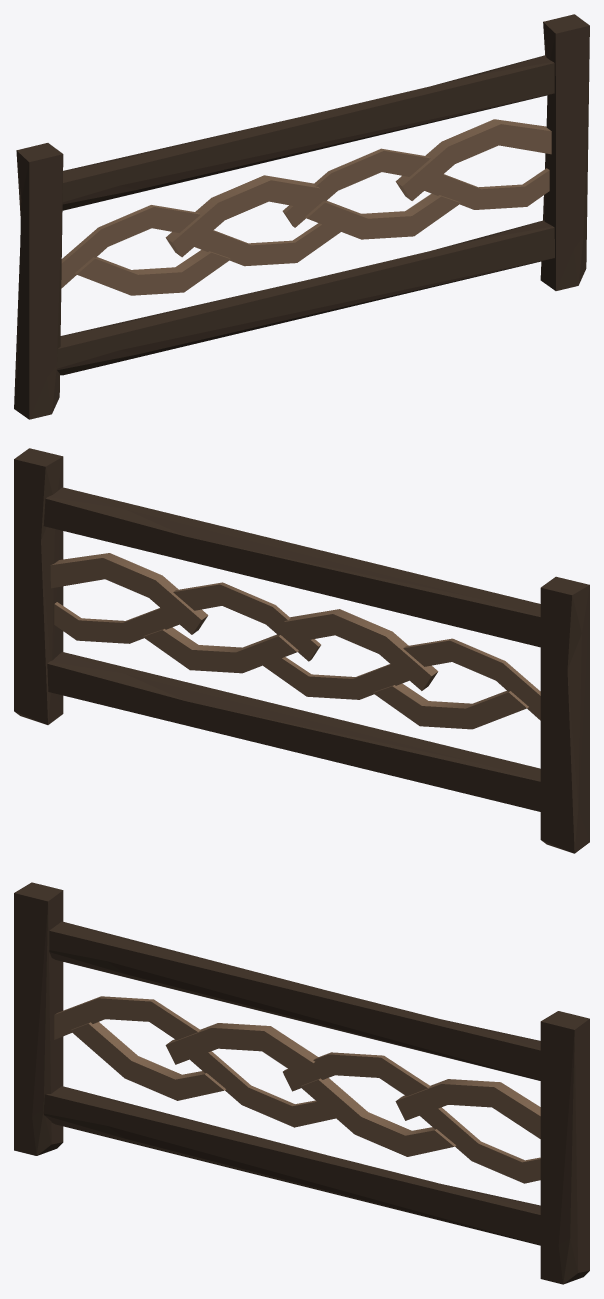
Rendered from SM_fence_norse_01.fbx.
3 renders of one model, top to bottom at view 1: azimuth 30°, elevation 25°; view 2: azimuth 150°, elevation 25°; view 3: azimuth 330°, elevation 25°, orthographic.
Parts seen in each view (by area): view 1: Object333; view 2: Object333; view 3: Object333.
Part boxes in pixels (left/top/right/bottom): Object333: left=14, top=14, right=589, bottom=419; Object333: left=14, top=448, right=589, bottom=853; Object333: left=14, top=882, right=589, bottom=1284.
Size of the model in its own units: 90.28 by 39.69 by 4.29.
